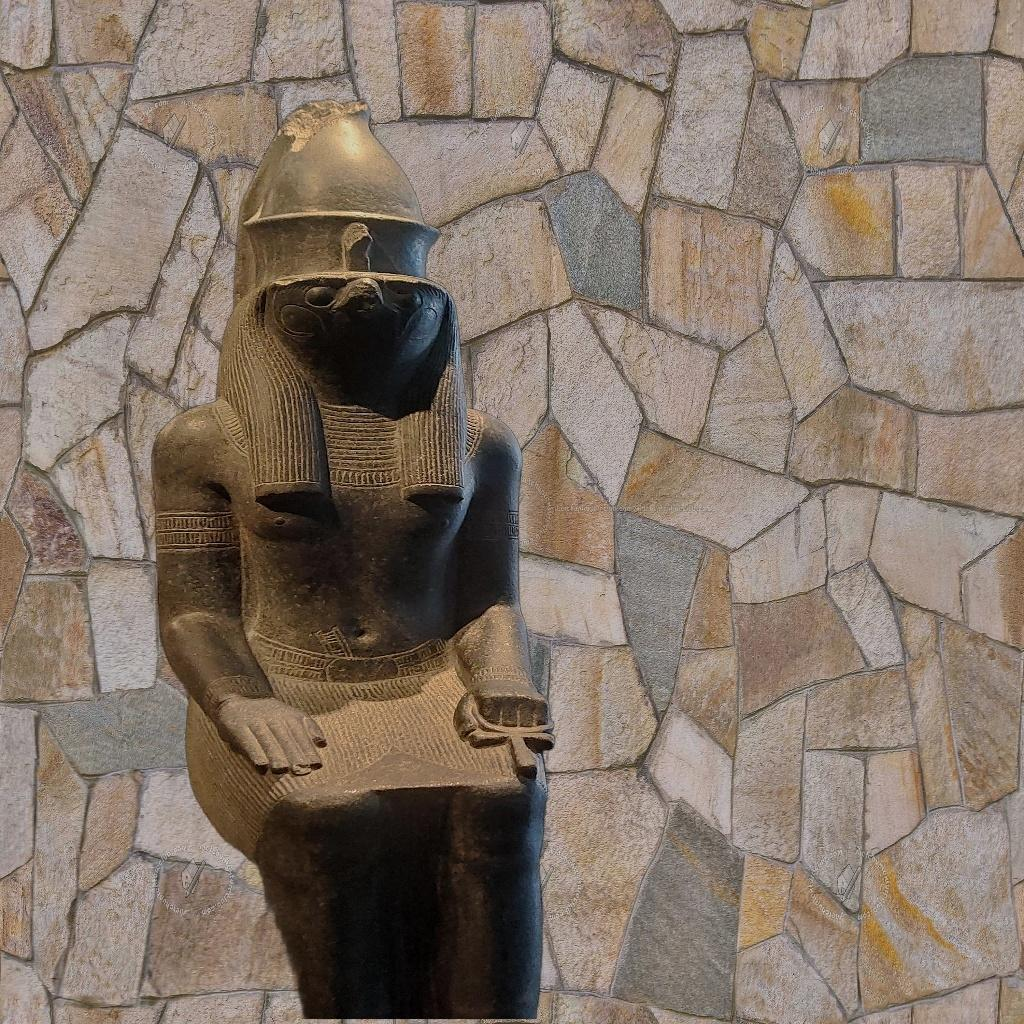Statue of God Ra-Horakhty: (129, 96, 565, 1020)
